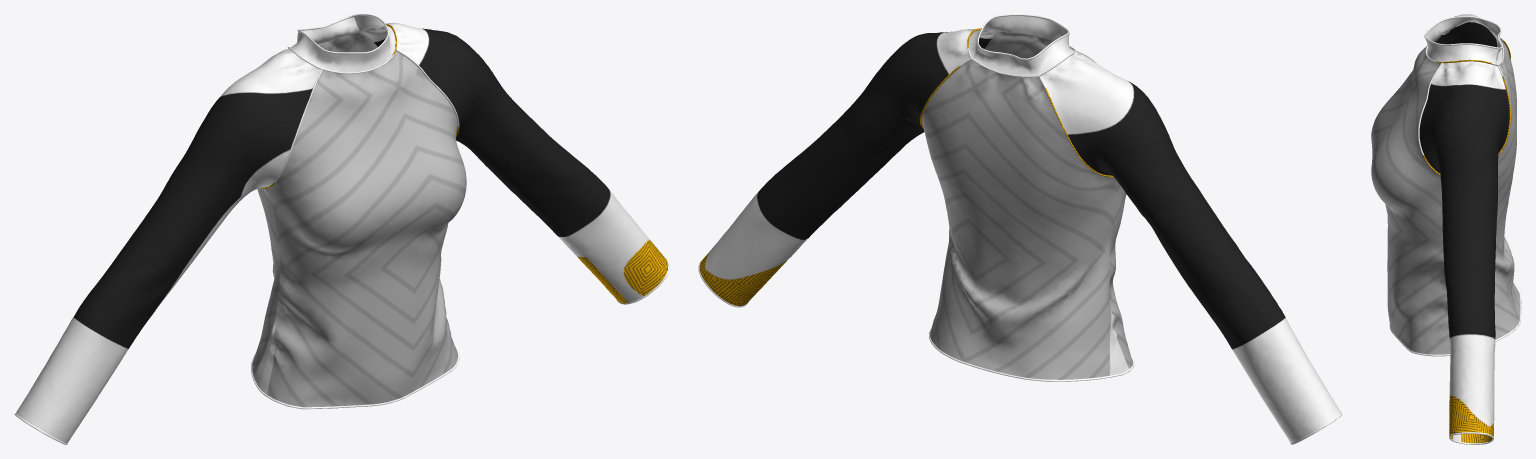
File: 3Angle.fbx
3 views of the same model, side by side, from view 1: azimuth 30°, elevation 25°; view 2: azimuth 150°, elevation 25°; view 3: azimuth 270°, elevation 25° (orthographic). The views are drawn at different scales.
Visible parts, largest first — view 1: 3Angle; view 2: 3Angle; view 3: 3Angle.
Part boxes in pixels (x1=…): 3Angle: x1=14, y1=14, x2=669, y2=444; 3Angle: x1=698, y1=14, x2=1342, y2=444; 3Angle: x1=1371, y1=14, x2=1521, y2=444.
Size of the model in its own units: 105 by 54.46 by 24.61.
